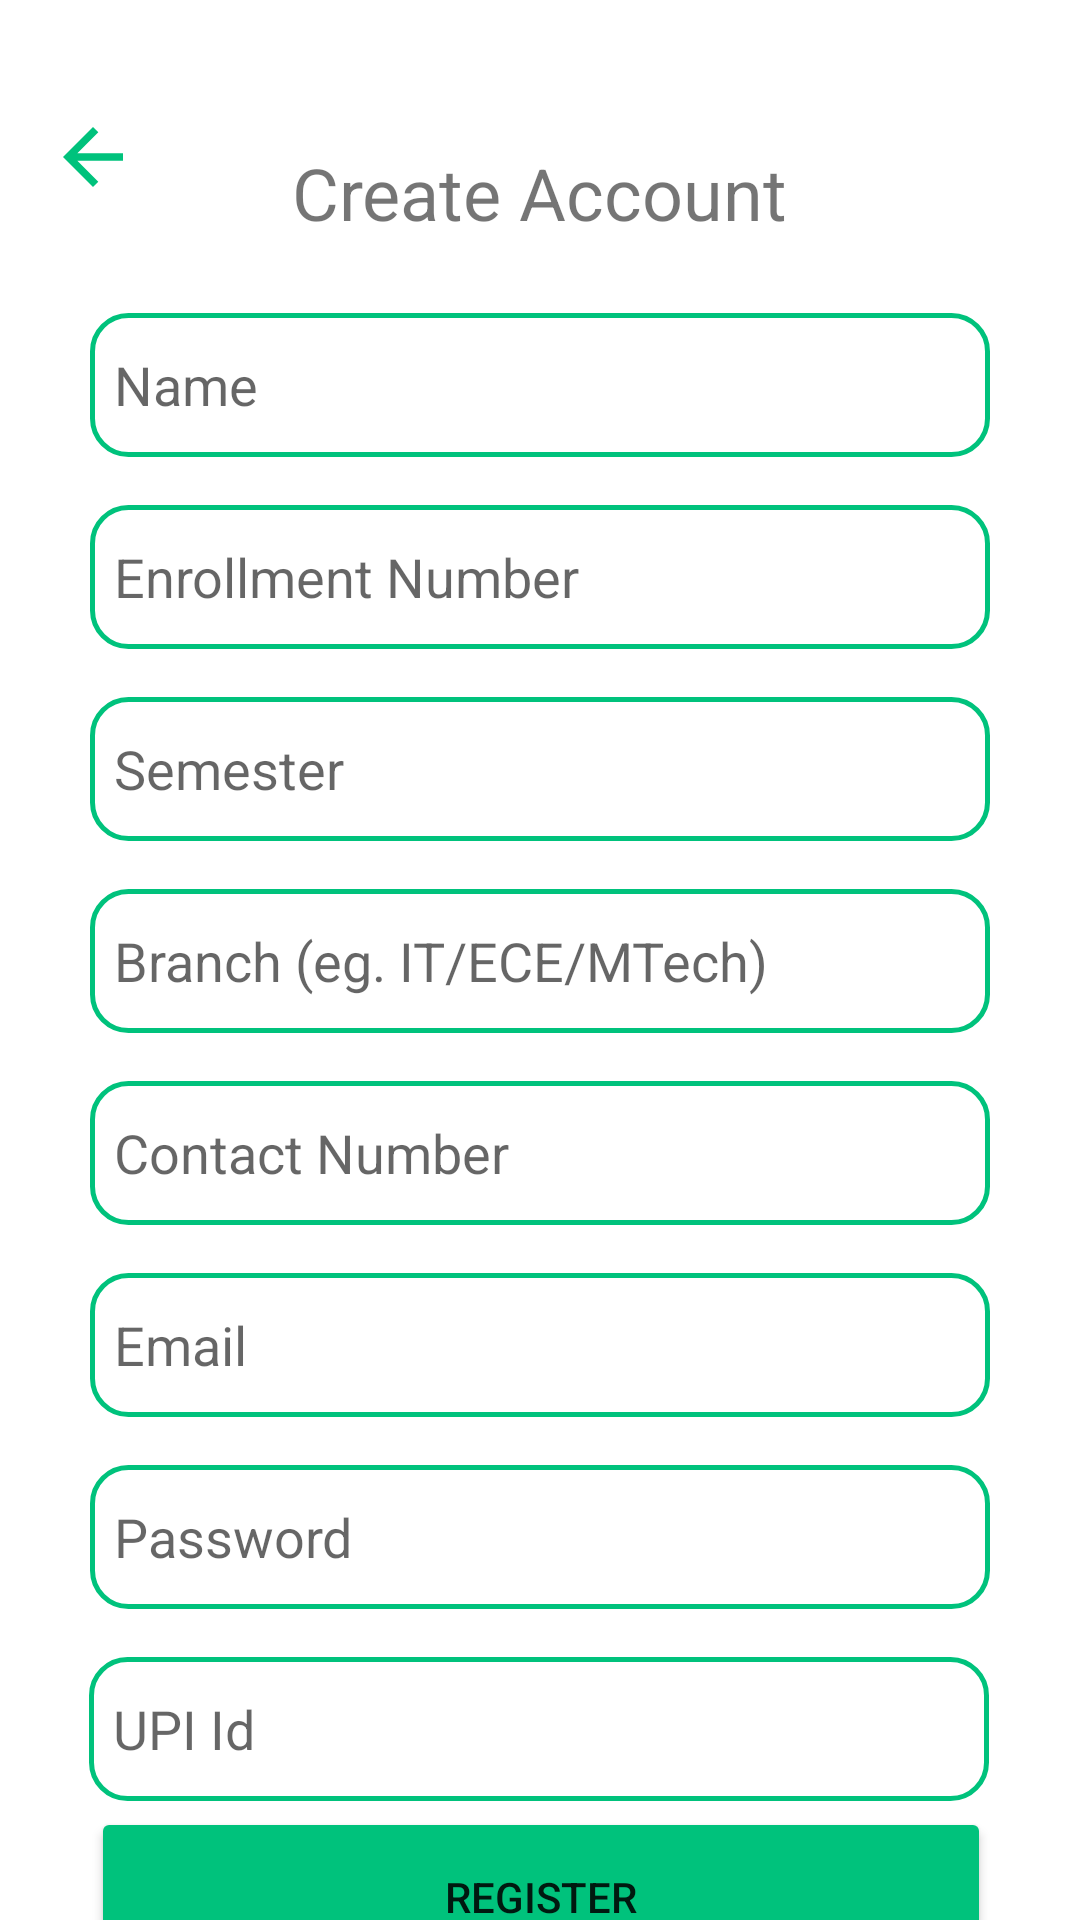

Where icons sit on this 1080px×1920px app screen, as {"x1": x1, "y1": y1, "x2": x2, "y2": y2}:
arrow back: {"x1": 63, "y1": 127, "x2": 123, "y2": 187}
